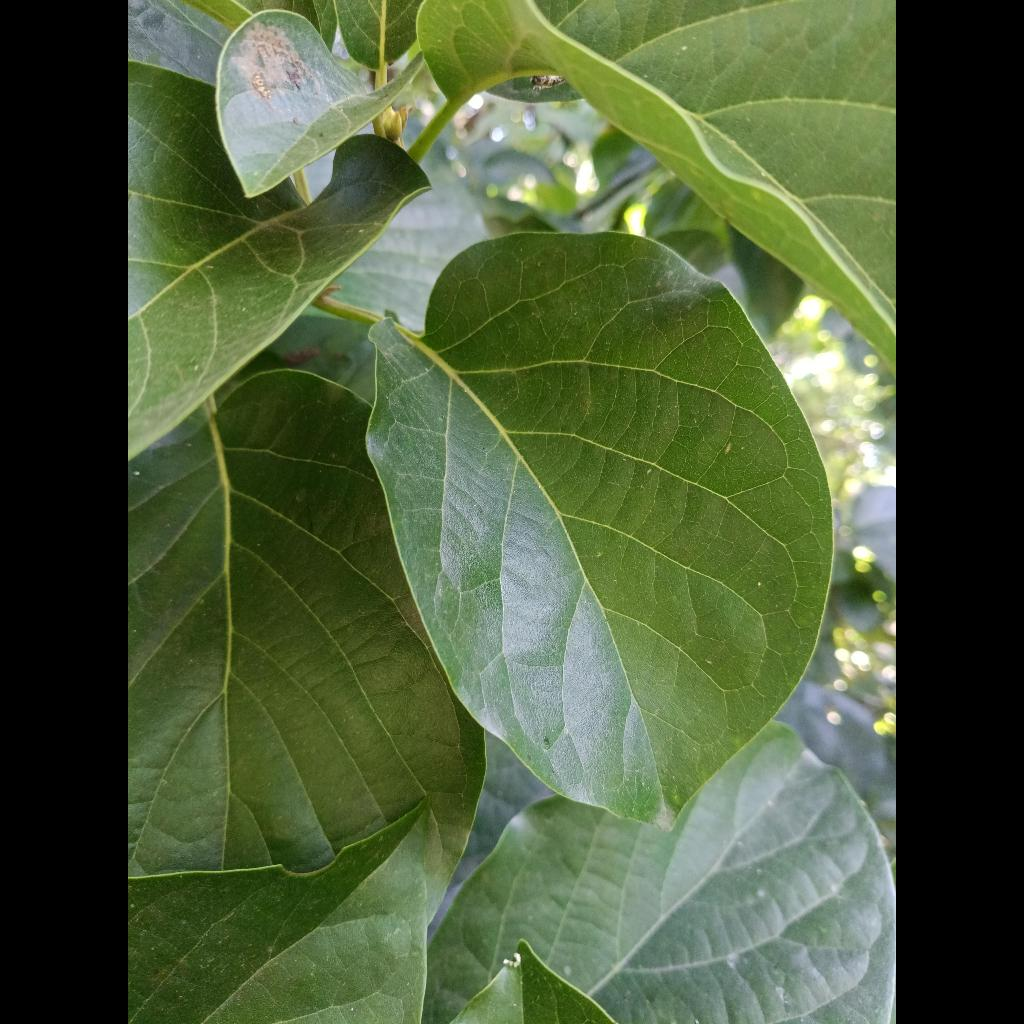Healthy: (368, 233, 831, 824)
